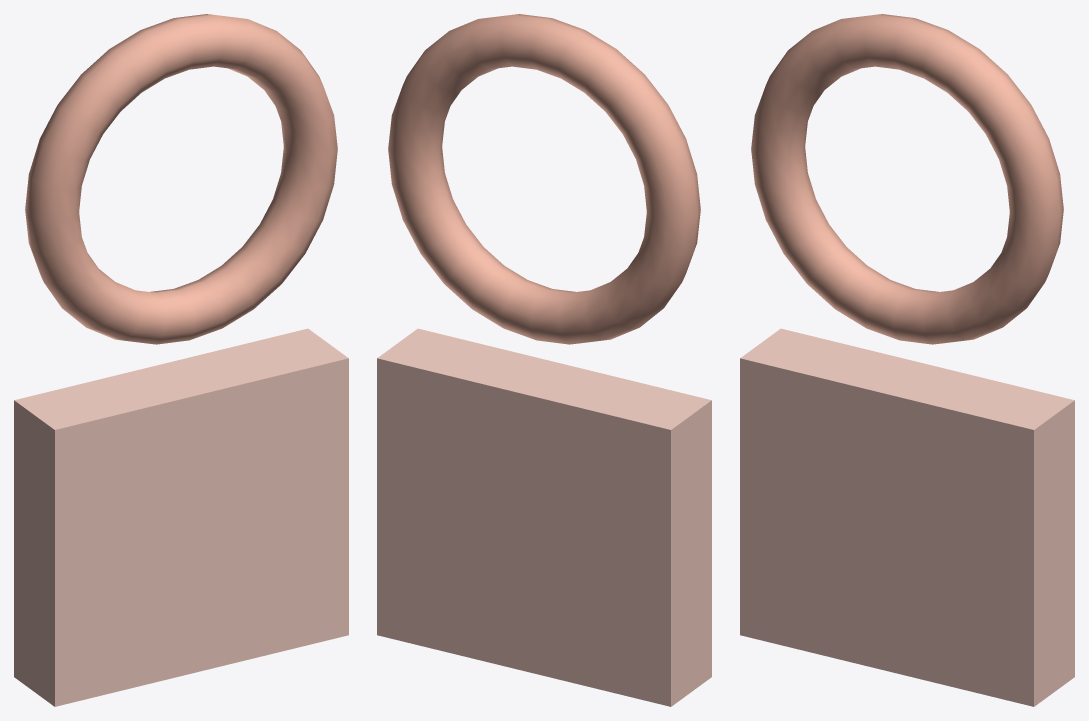
Rendered from VM-DAM-SH40290122.glb.
The picture shows the model from 3 angles, left to right: view 1: azimuth 30°, elevation 25°; view 2: azimuth 150°, elevation 25°; view 3: azimuth 330°, elevation 25°; orthographic projection.
Parts seen in each view (by area): view 1: Llavero Flor de Aleación; view 2: Llavero Flor de Aleación; view 3: Llavero Flor de Aleación.
Boxes of the visible parts, <box> form: Llavero Flor de Aleación: <box>14,14,348,706</box>; Llavero Flor de Aleación: <box>377,14,711,706</box>; Llavero Flor de Aleación: <box>740,14,1074,706</box>.
Bounding box in the file's own units: 0.053 × 0.1056 × 0.0122.
